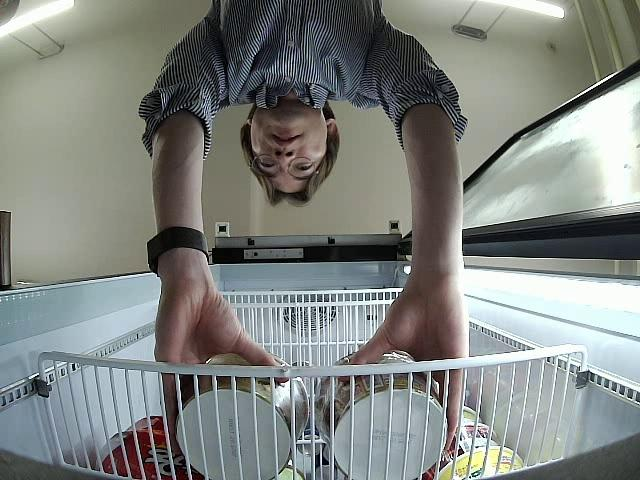00_hand: (153, 286, 293, 457), (339, 292, 467, 457)
03_chapagetti_L: (173, 345, 308, 480), (318, 351, 443, 480)
